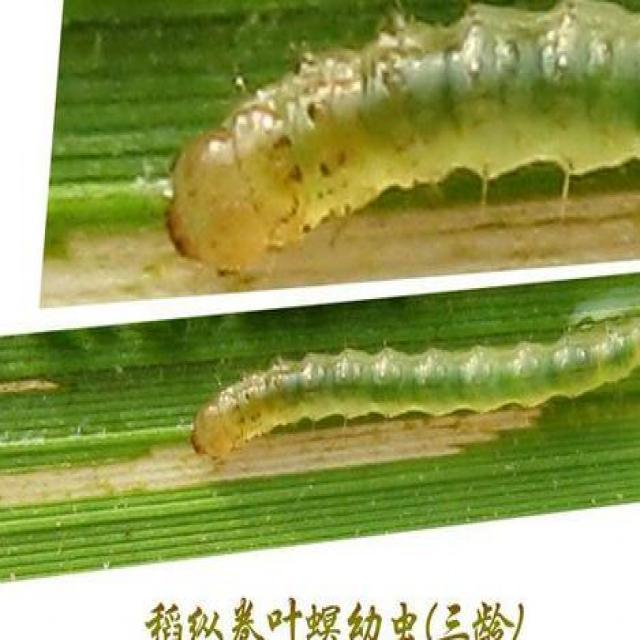leaf folder: (166, 0, 639, 280), (191, 316, 639, 457)
